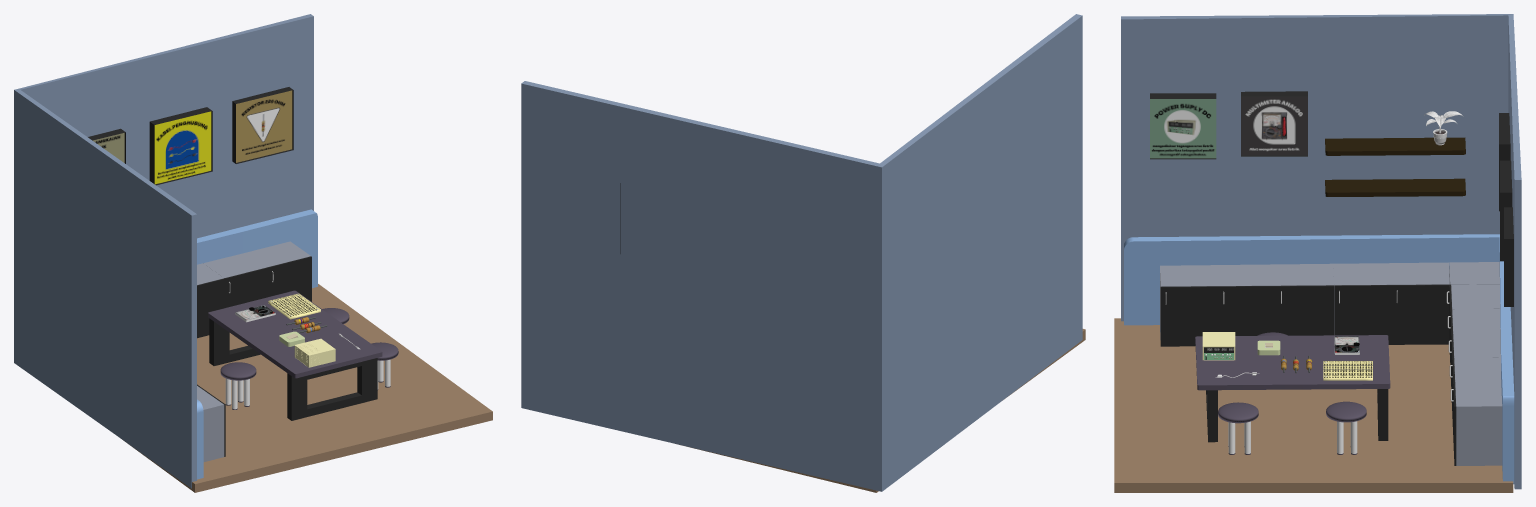
Rendered from ruangan_1.glb.
The picture shows the model from 3 angles, left to right: view 1: azimuth 30°, elevation 25°; view 2: azimuth 150°, elevation 25°; view 3: azimuth 270°, elevation 25°; orthographic projection. The views are drawn at different scales.
Visible parts, largest first — view 1: Room_1, lantai_180, Cube_36, Baseboard.001_2, Cube.017_69, Cube.016_67, Cube.002_38, Cabinet1_Door.009_32, Cabinet1.004_17, Cabinet1_Door.008_29, Cube.001_37, Cabinet1_Door.007_26 (+6 smaller); view 2: Room_1; view 3: Room_1, lantai_180, Baseboard.001_2, Cube_36, Cube.013_175, Cube.022_174, Cabinet1.010_33, Cabinet1_Door_4, Cabinet1_Door.004_16, Cabinet1_Door.001_7, Cabinet1_Door.002_10, Cabinet1_Door.003_13 (+22 smaller).
Part boxes in pixels (box(x1,y1,x2,y2)): Room_1: box(14, 14, 313, 488); lantai_180: box(123, 284, 492, 492); Cube_36: box(208, 290, 382, 378); Baseboard.001_2: box(197, 209, 317, 479); Cube.017_69: box(149, 107, 212, 185); Cube.016_67: box(232, 87, 293, 163); Cube.002_38: box(287, 358, 377, 420); Cabinet1_Door.009_32: box(268, 256, 311, 301); Cabinet1.004_17: box(197, 386, 224, 461); Cabinet1_Door.008_29: box(224, 267, 268, 307); Cube.001_37: box(209, 318, 260, 365); Cabinet1_Door.007_26: box(197, 278, 224, 338); Room_1: box(521, 14, 1082, 491); Room_1: box(1121, 14, 1521, 489); lantai_180: box(1114, 318, 1513, 492); Baseboard.001_2: box(1124, 234, 1514, 484); Cube_36: box(1195, 335, 1390, 390); Cube.013_175: box(1150, 93, 1216, 159); Cube.022_174: box(1241, 91, 1307, 156); Cabinet1.010_33: box(1455, 382, 1502, 465); Cabinet1_Door_4: box(1391, 284, 1449, 344); Cabinet1_Door.004_16: box(1160, 286, 1218, 346); Cabinet1_Door.001_7: box(1334, 285, 1391, 344); Cabinet1_Door.002_10: box(1276, 285, 1333, 335); Cabinet1_Door.003_13: box(1218, 286, 1276, 335).
Bounding box in the file's own units: 4.09 × 3.57 × 4.21.
55 materials, 7 textured.
